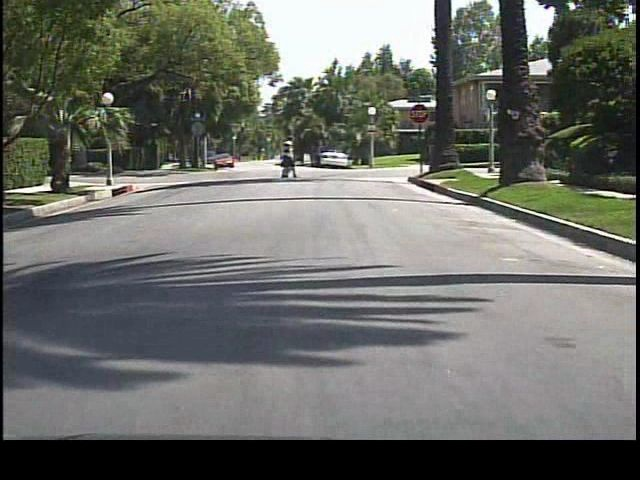person: (277, 136, 299, 182)
